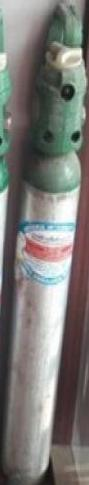cylinder: (0, 1, 89, 485)
